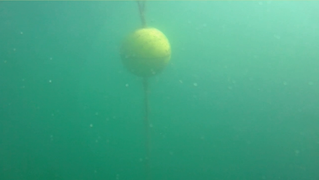buoy: (119, 26, 172, 78)
